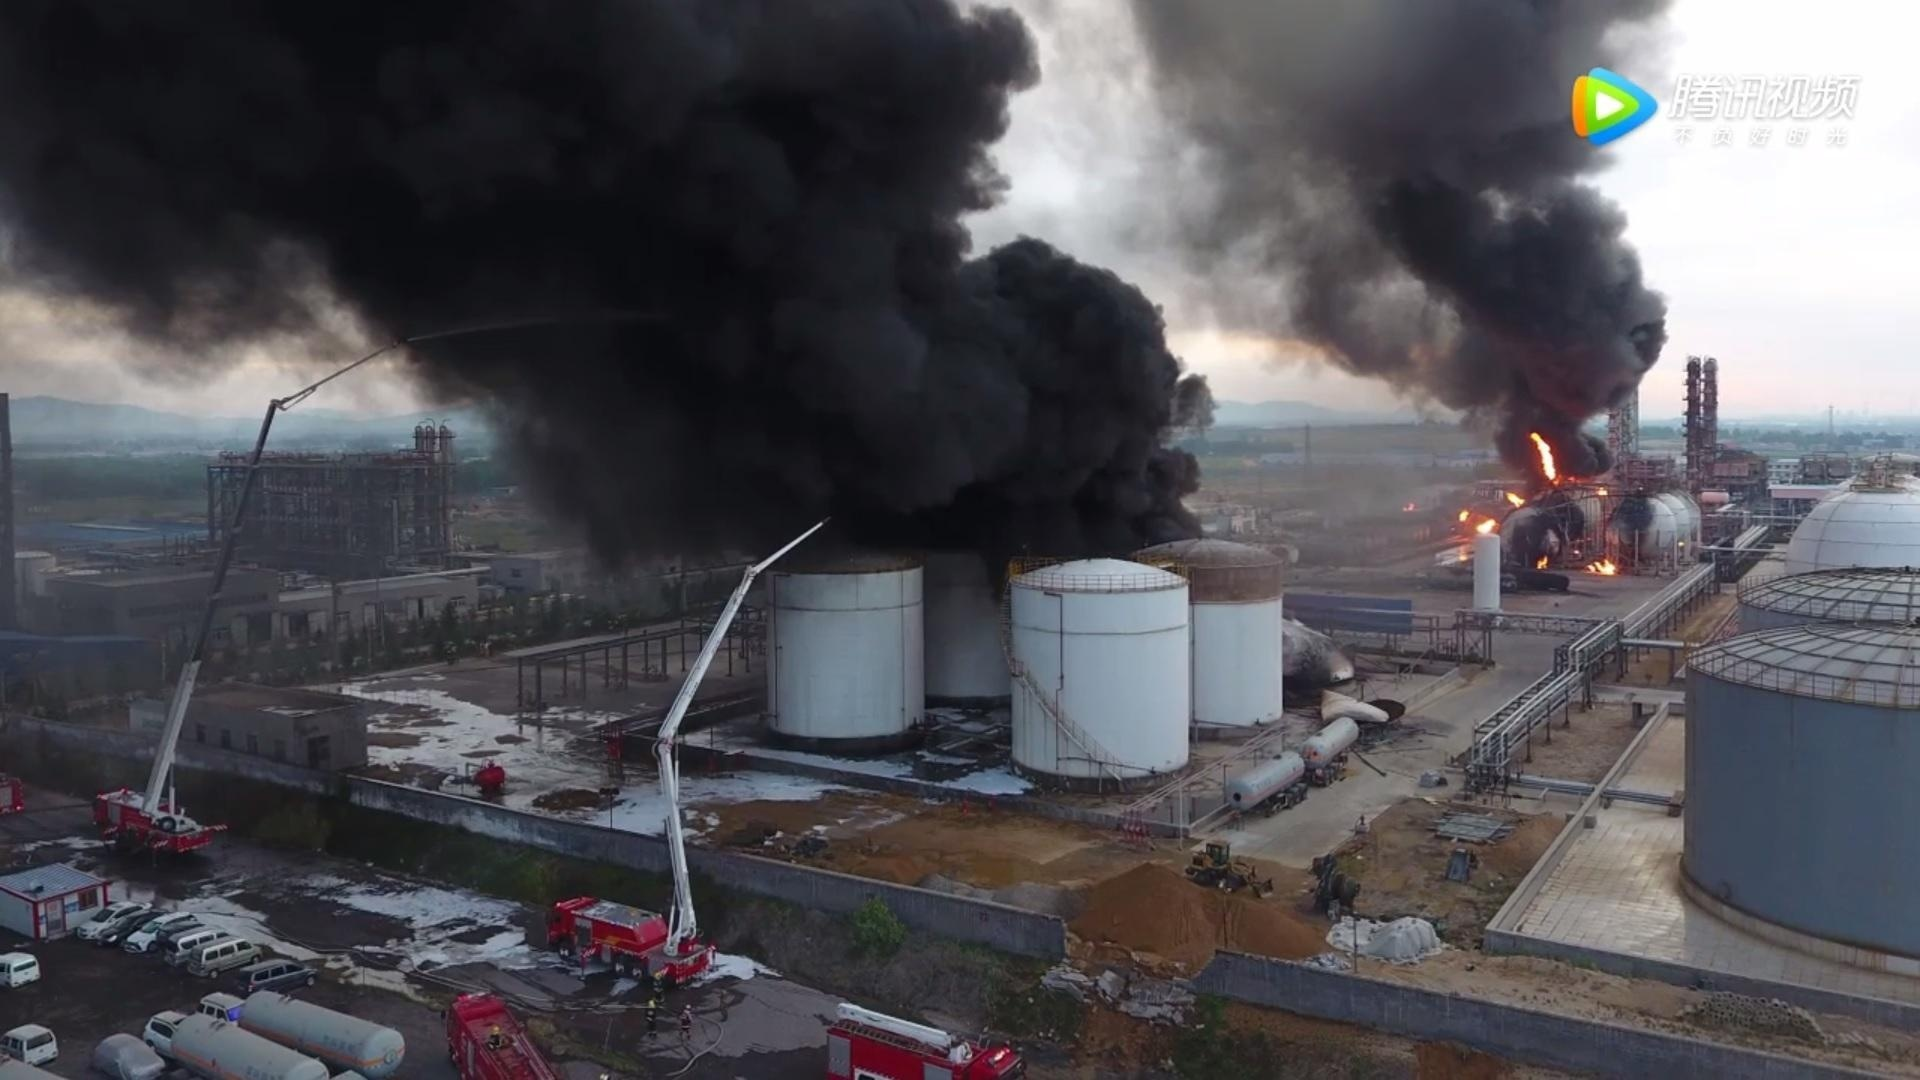fire: (1458, 426, 1639, 578)
